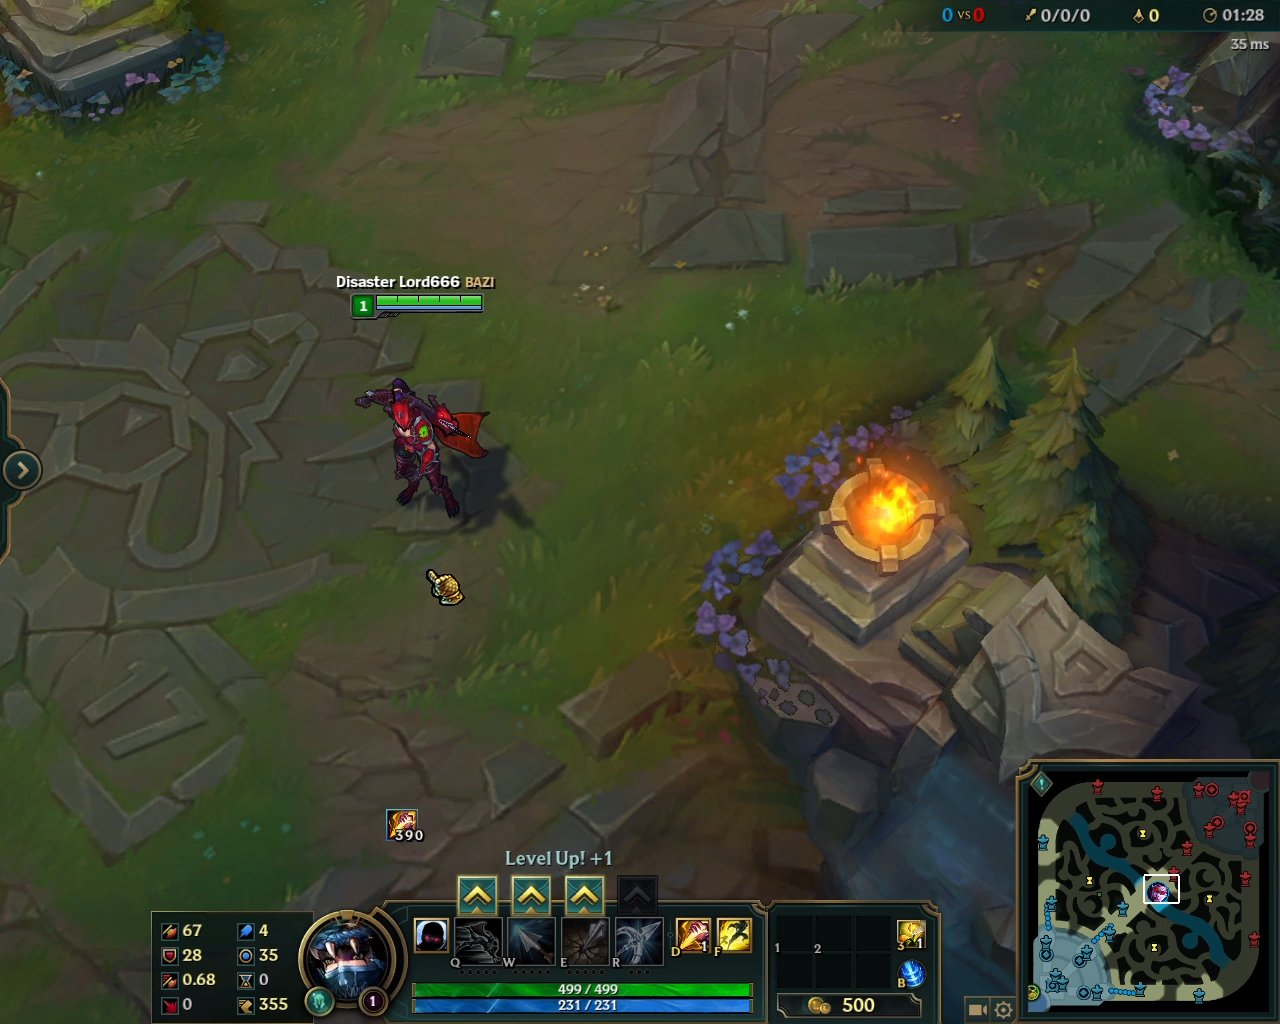Vayne: (347, 373, 501, 526)
